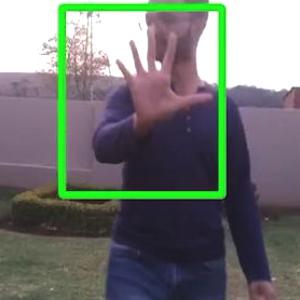follow_hand: (110, 20, 215, 128)
